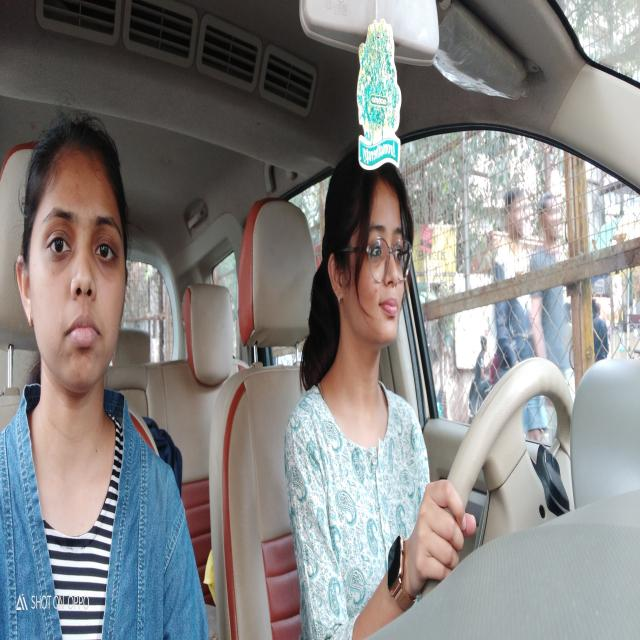person: (14, 108, 140, 417), (329, 112, 417, 382)
